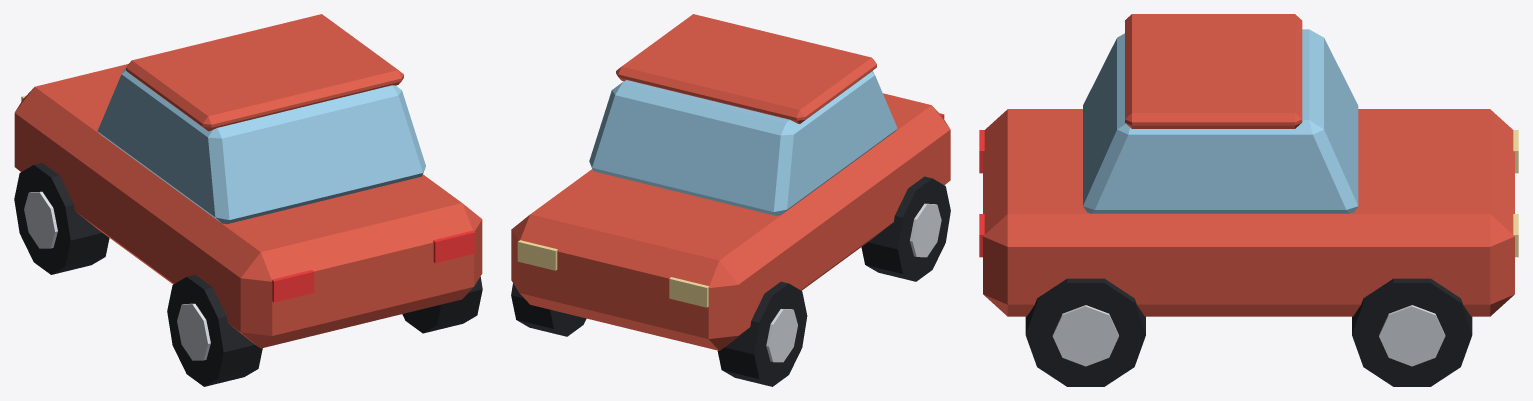
File: sedan.glb
3 renders of one model, left to right at view 1: azimuth 30°, elevation 25°; view 2: azimuth 150°, elevation 25°; view 3: azimuth 270°, elevation 25°, orthographic. The views are drawn at different scales.
Visible parts, largest first — view 1: Body, Wheel_1L, Wheel_0L, Wheel_1R; view 2: Body, Wheel_0L, Wheel_1L, Wheel_0R; view 3: Body, Wheel_0R, Wheel_1R.
Part boxes in pixels (x1,y1,x2,y2): Body: (14, 14, 482, 348); Wheel_1L: (167, 274, 262, 386); Wheel_0L: (14, 162, 109, 274); Wheel_1R: (402, 277, 482, 333); Body: (511, 14, 950, 350); Wheel_0L: (717, 281, 807, 386); Wheel_1L: (861, 176, 950, 281); Wheel_0R: (511, 283, 586, 336); Body: (979, 14, 1518, 316); Wheel_0R: (1352, 278, 1472, 386); Wheel_1R: (1025, 278, 1145, 386).
Size of the model in its own units: 0.92 by 0.7967 by 1.52.
1 material, 1 textured.
